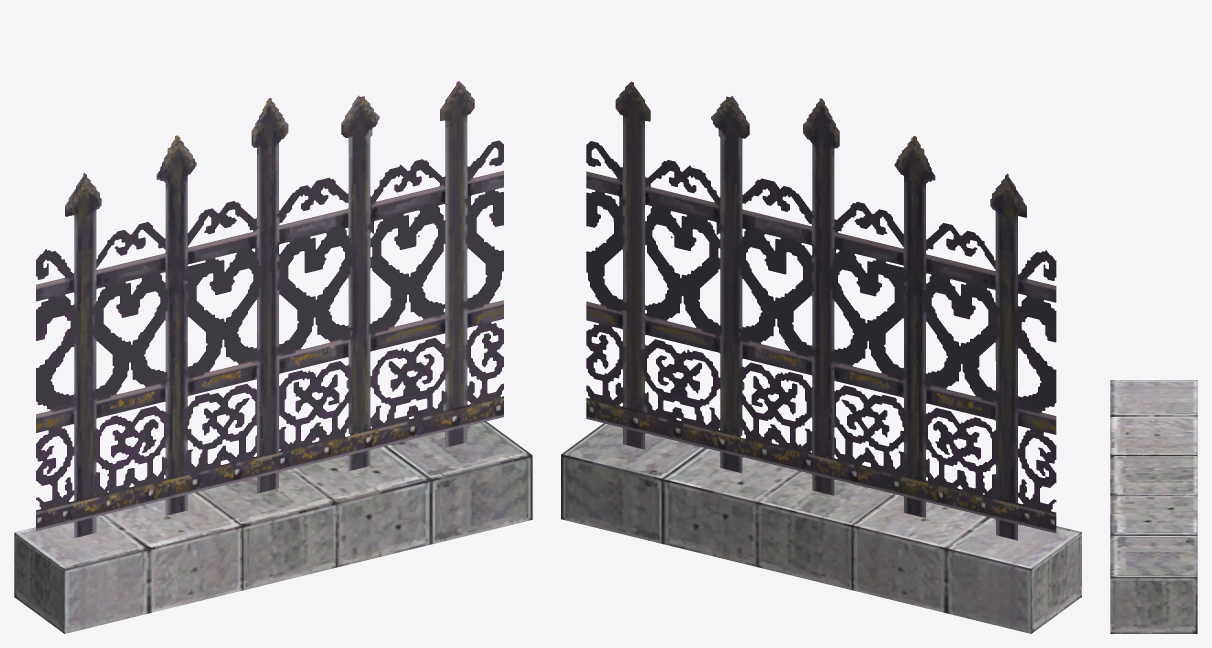
Rendered from nml-bd040.glb.
The picture shows the model from 3 angles, left to right: view 1: azimuth 30°, elevation 25°; view 2: azimuth 150°, elevation 25°; view 3: azimuth 270°, elevation 25°; orthographic projection. The views are drawn at different scales.
Visible parts, largest first — view 1: geom_node_0; view 2: geom_node_0; view 3: geom_node_0.
Part boxes in pixels (bbox=[...]): geom_node_0: bbox=[14, 81, 532, 633]; geom_node_0: bbox=[561, 81, 1081, 633]; geom_node_0: bbox=[1110, 380, 1197, 633].
Bounding box in the file's own units: 2.01 × 1.99 × 0.3722.
Materials: 1 (1 with a texture image).
